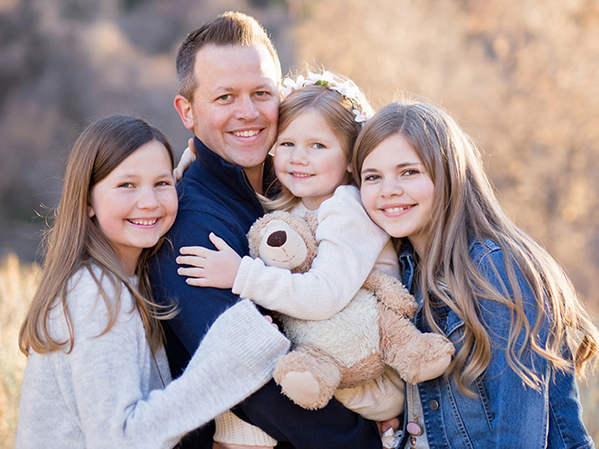without_mask: (208, 79, 280, 153), (356, 162, 436, 221), (113, 171, 181, 239), (270, 135, 343, 196)
